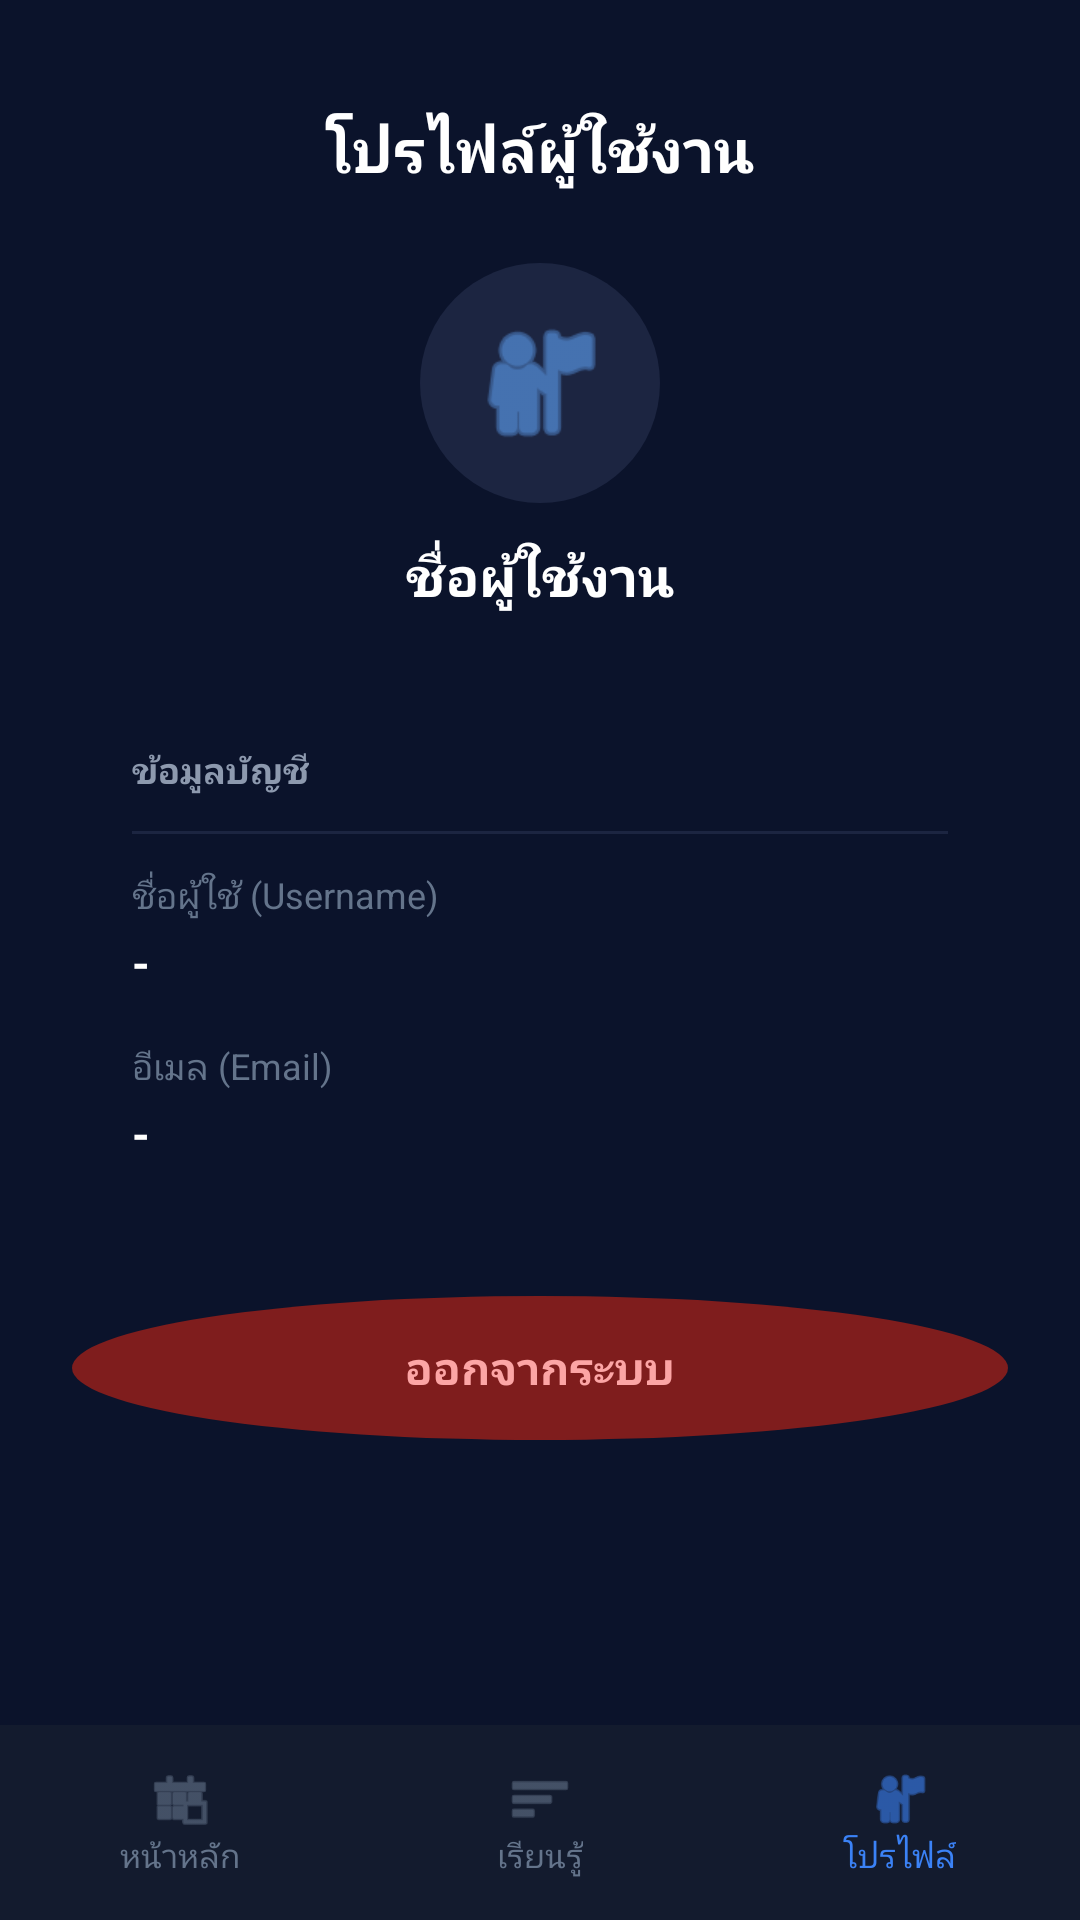

Icons on this 1080*1920 Android screen, each with its box as (x1, y1, x2, y2):
sort by size: (512, 1781, 568, 1818)
today: (154, 1775, 207, 1825)
